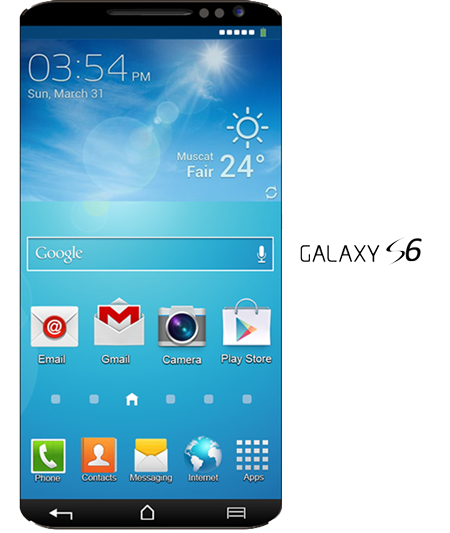Handphone: (16, 1, 287, 533)
